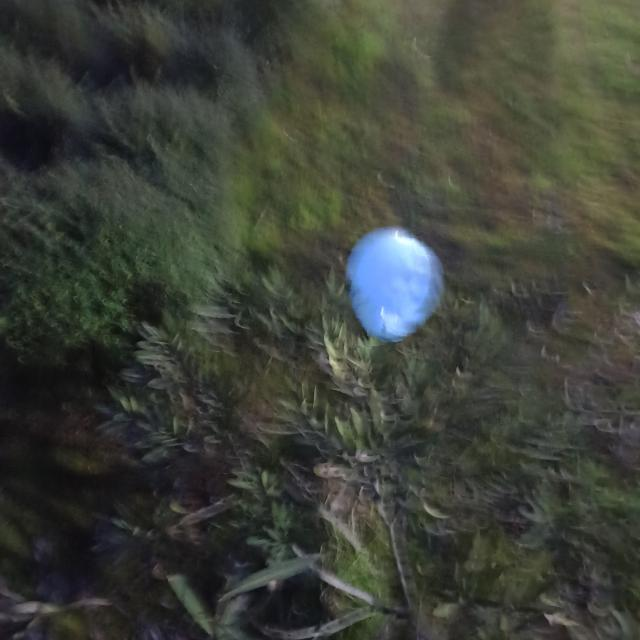balloon: (344, 228, 445, 346)
